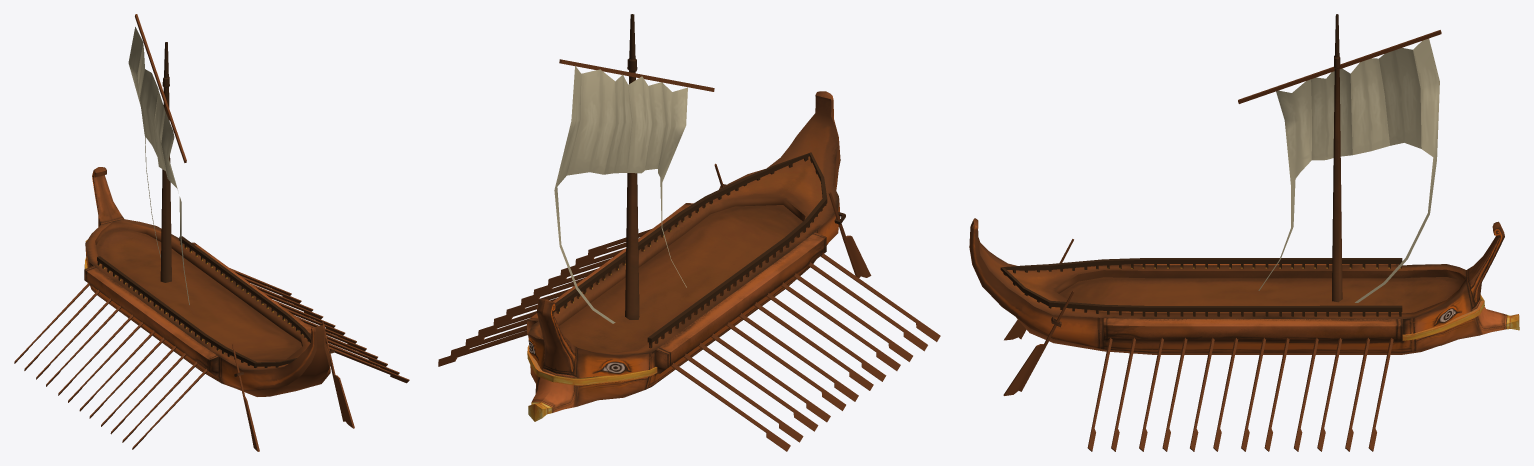
File: bireme.fbx
3 renders of one model, left to right at view 1: azimuth 30°, elevation 25°; view 2: azimuth 150°, elevation 25°; view 3: azimuth 270°, elevation 25°, orthographic. The views are drawn at different scales.
Parts seen in each view (by area): view 1: polySurface31, polySurface29, polySurface26; view 2: polySurface31, polySurface29, polySurface37, polySurface36, polySurface40, polySurface41, polySurface43, polySurface32, polySurface33, polySurface34, polySurface38, polySurface42 (+4 smaller); view 3: polySurface31, polySurface29, polySurface26.
Boxes of the visible parts, x1,y1,x2,y2 form: polySurface31: (84,42,334,396); polySurface29: (128,14,189,304); polySurface26: (321,322,354,428); polySurface31: (527,14,845,421); polySurface29: (554,59,714,323); polySurface37: (754,302,873,390); polySurface36: (766,293,886,381); polySurface40: (711,333,830,422); polySurface41: (698,343,818,431); polySurface43: (671,363,790,451); polySurface32: (820,253,940,341); polySurface33: (808,262,927,351); polySurface34: (793,273,912,361); polySurface38: (739,313,858,401); polySurface42: (683,353,803,442); polySurface31: (969,14,1519,354); polySurface29: (1238,30,1441,302); polySurface26: (1003,291,1073,395).
Bounding box in the file's own units: 30.15 × 31.13 × 43.45.
